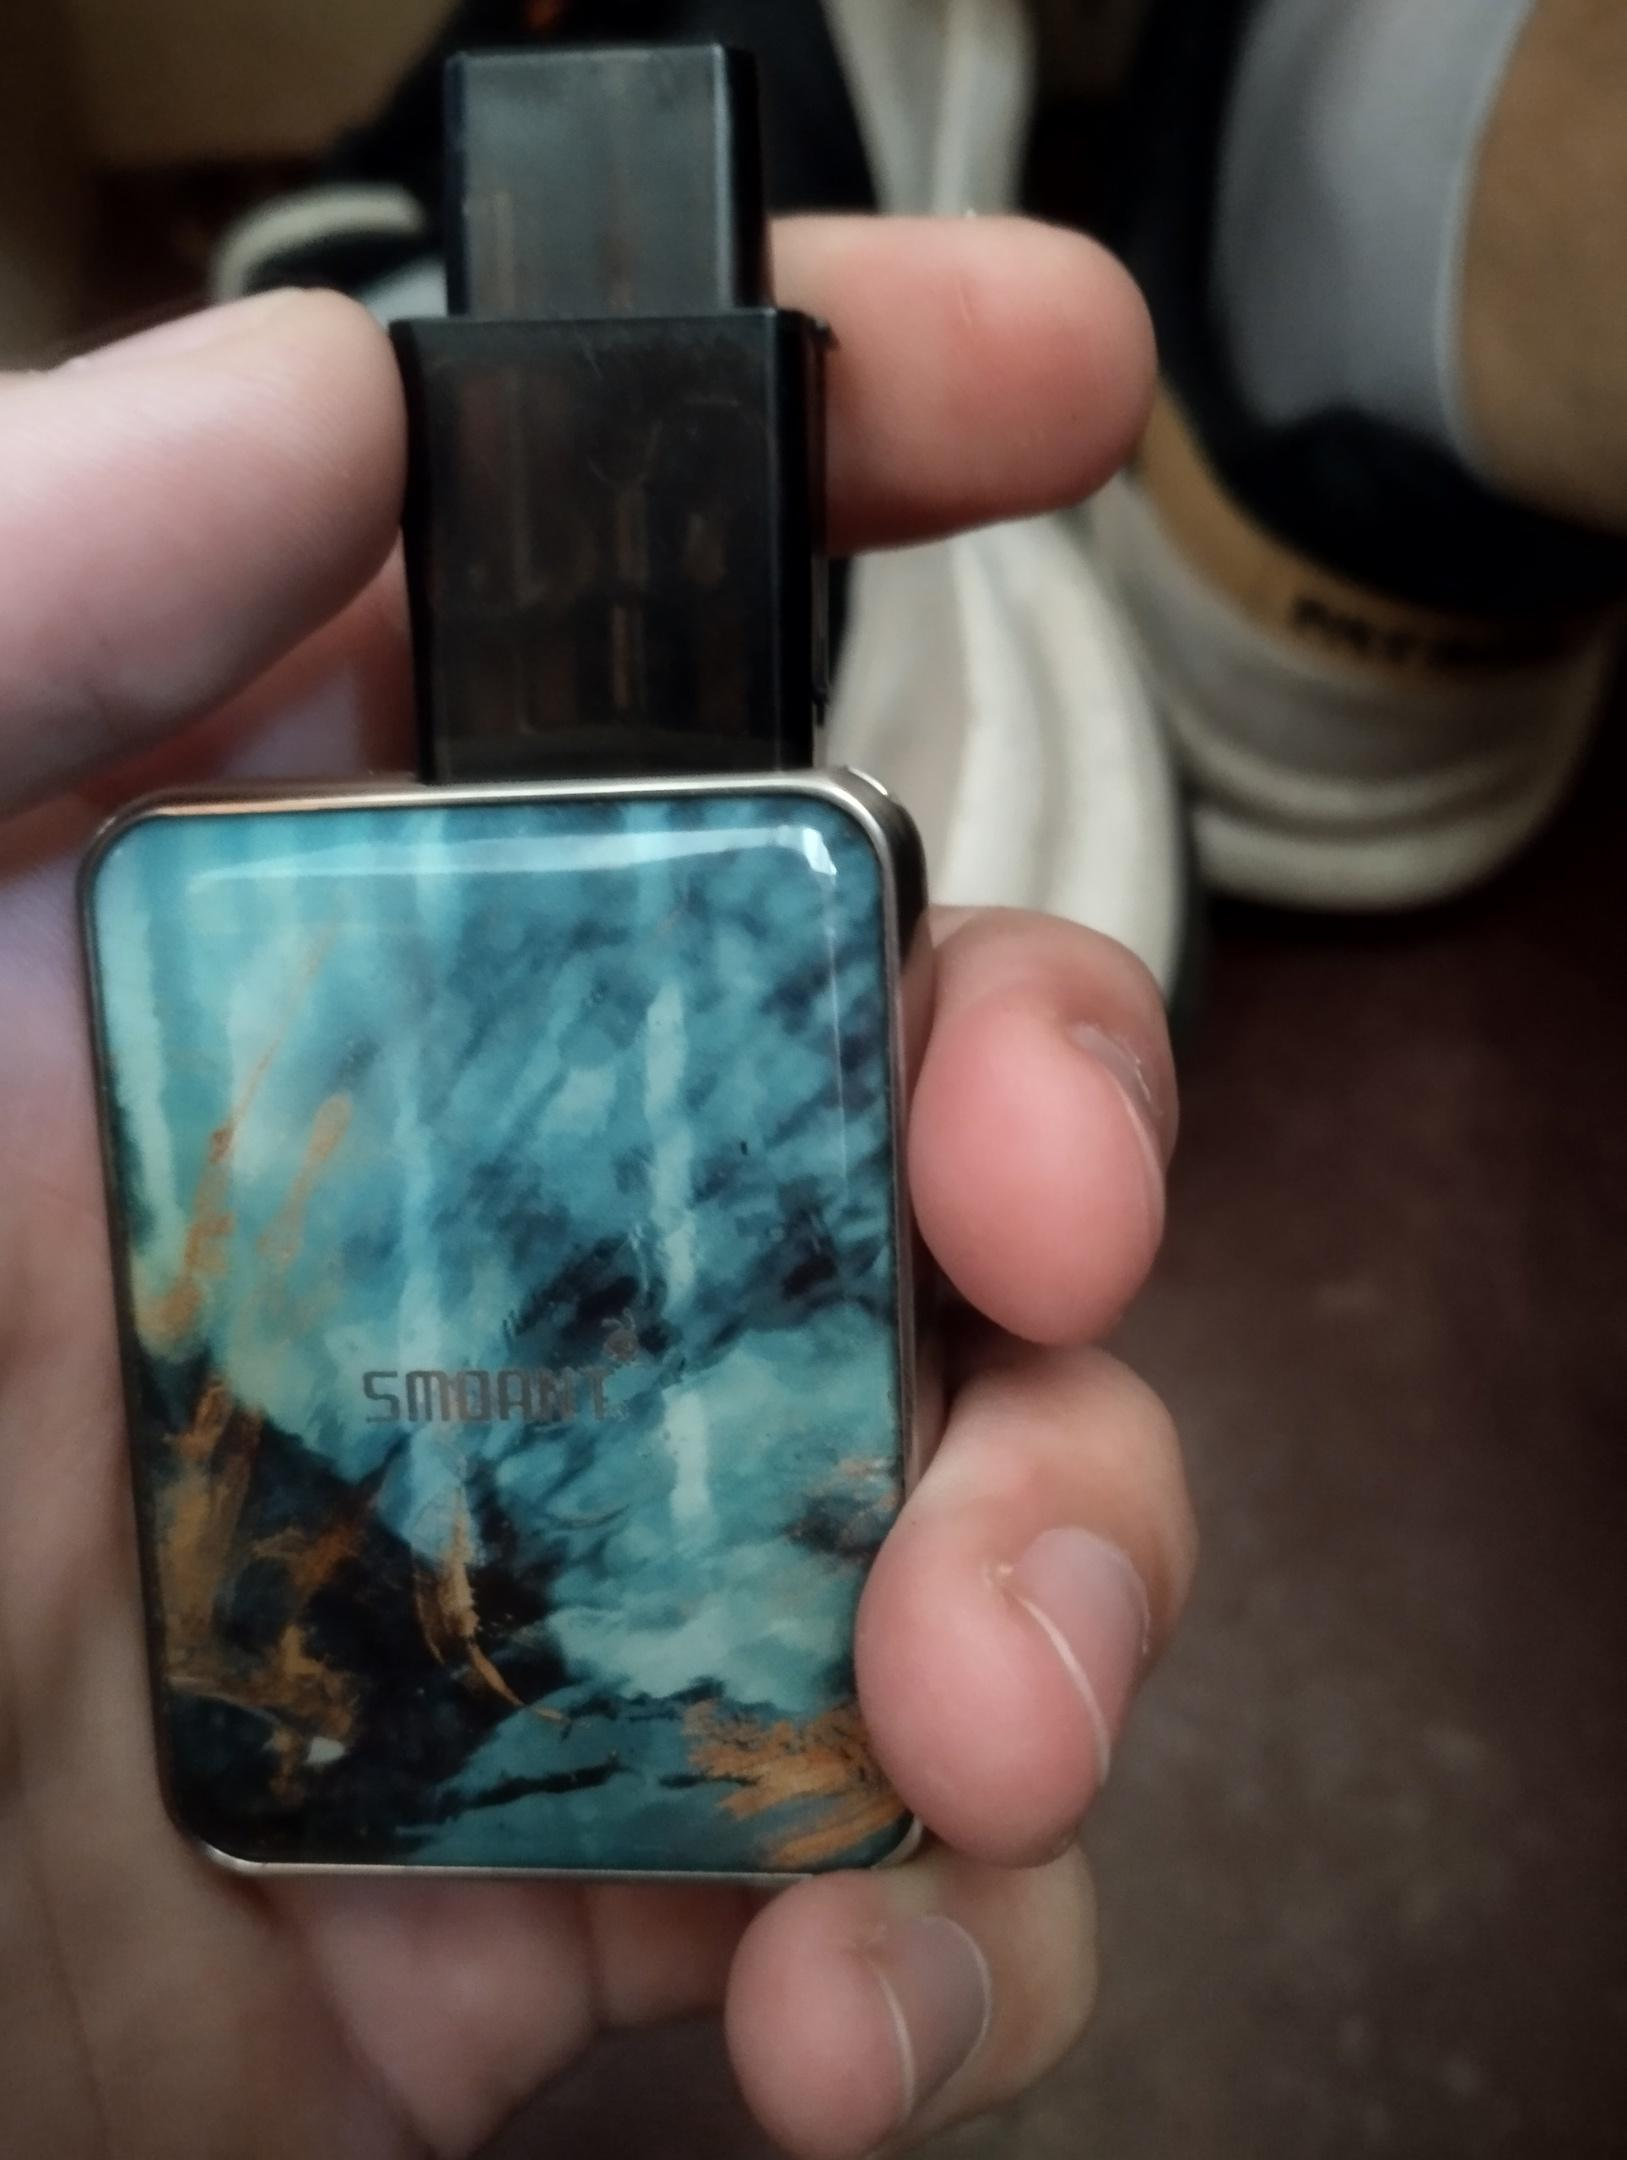Vape: (78, 46, 926, 1888)
